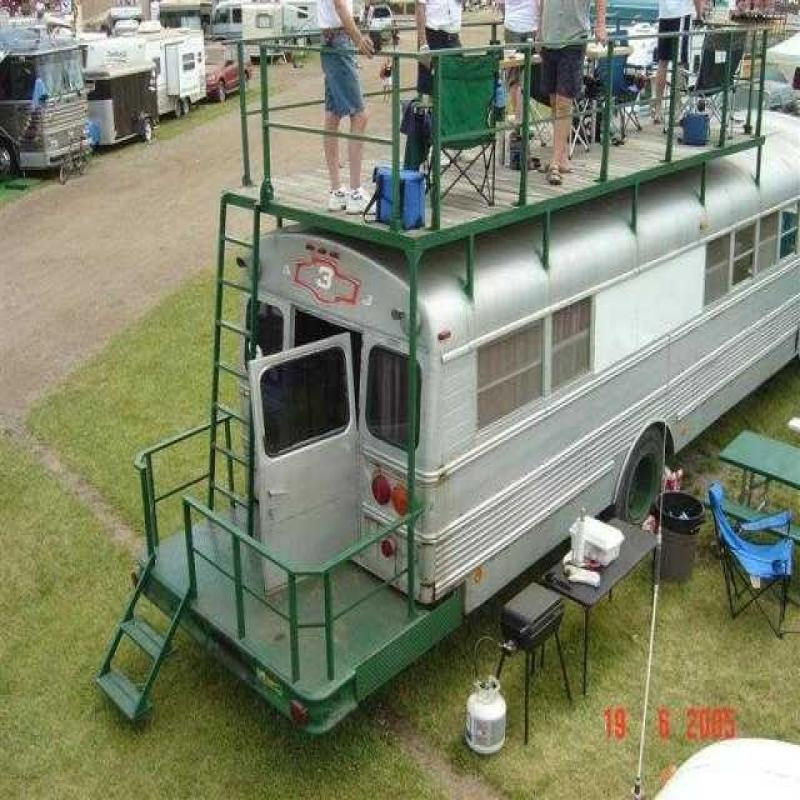bus: (154, 178, 782, 550)
